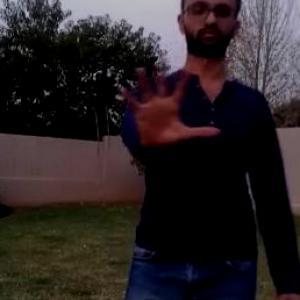follow_hand: (110, 41, 221, 152)
